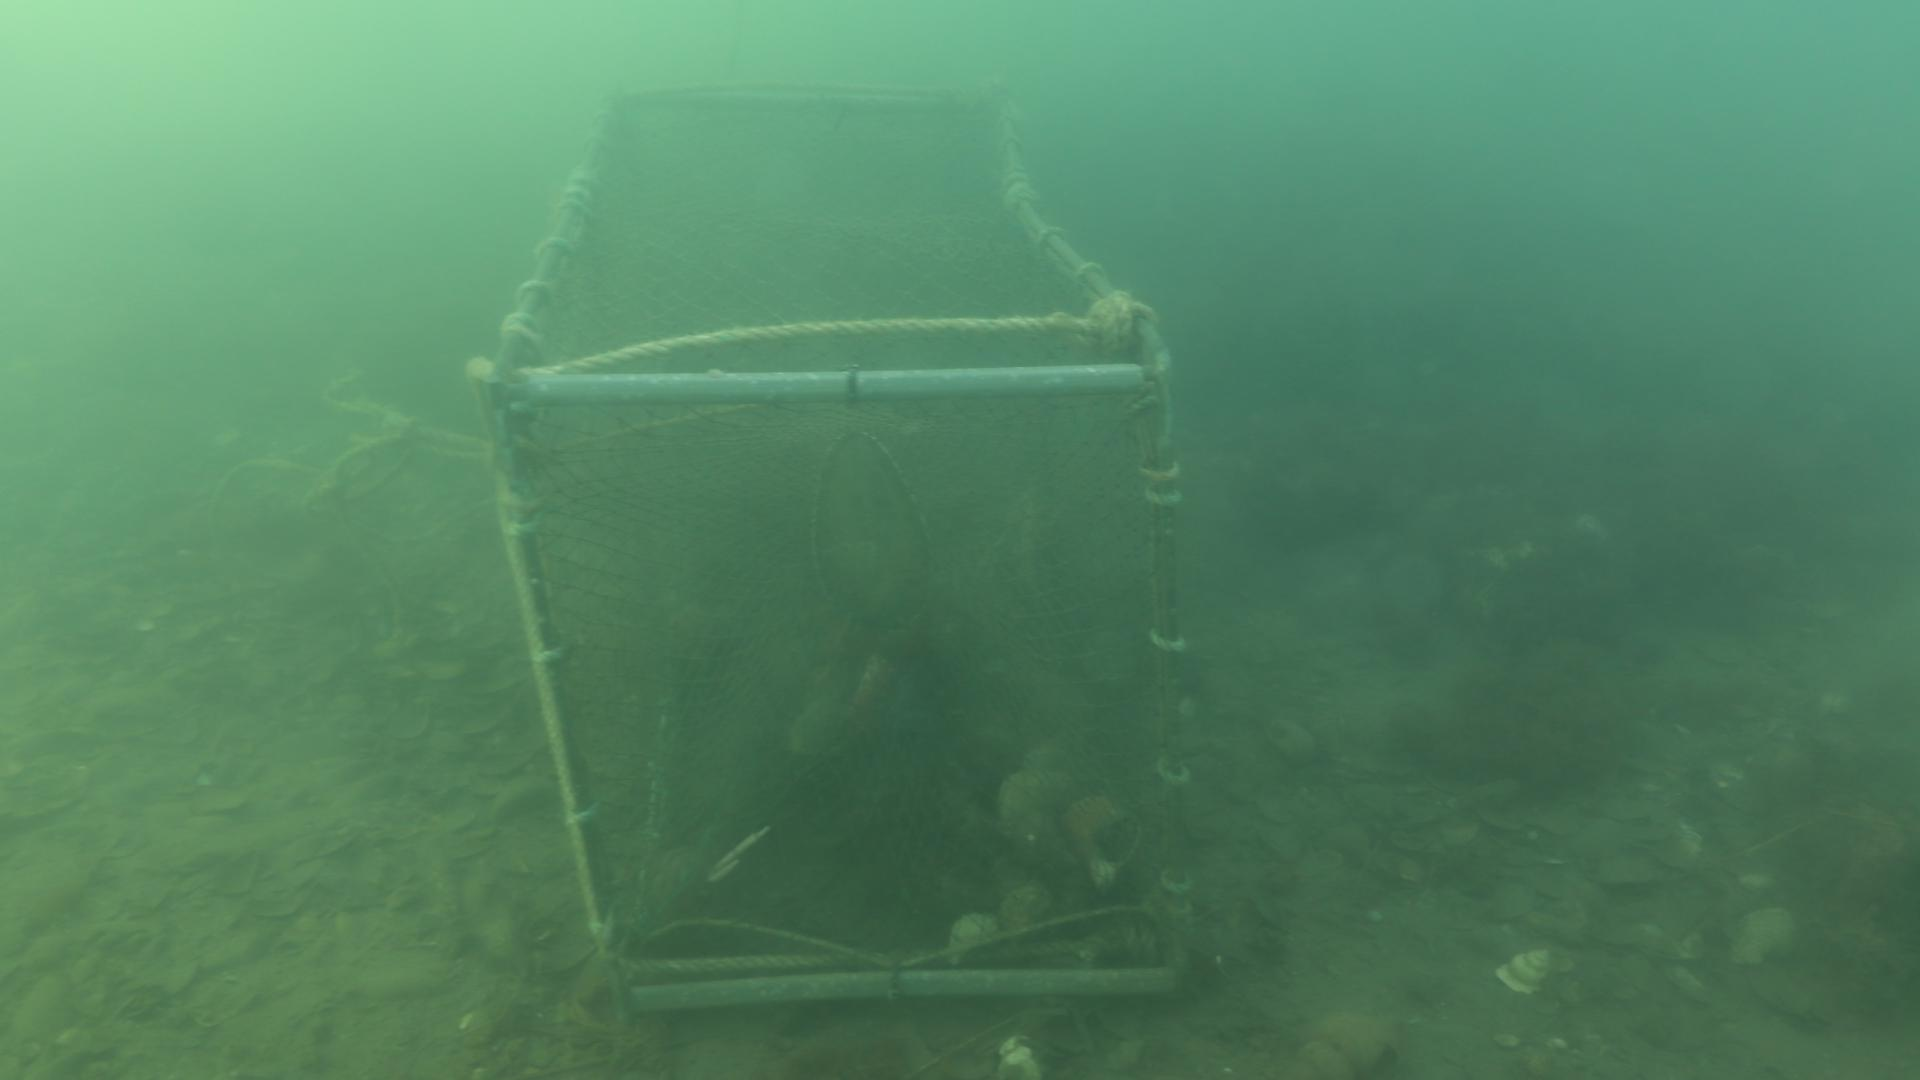rectangular fish trap: (483, 88, 1189, 1023)
